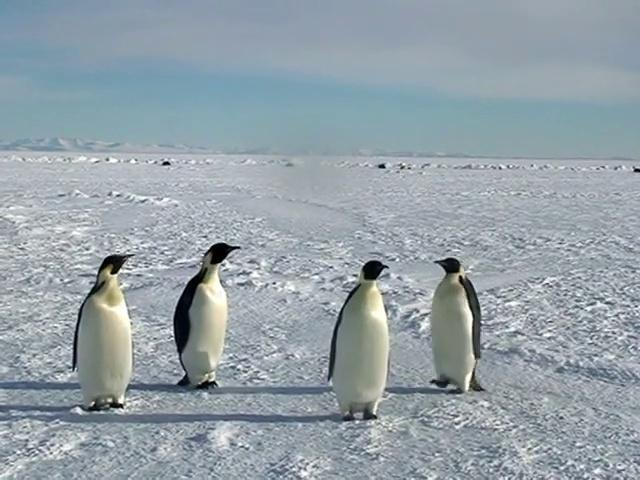animal: (329, 261, 390, 422)
